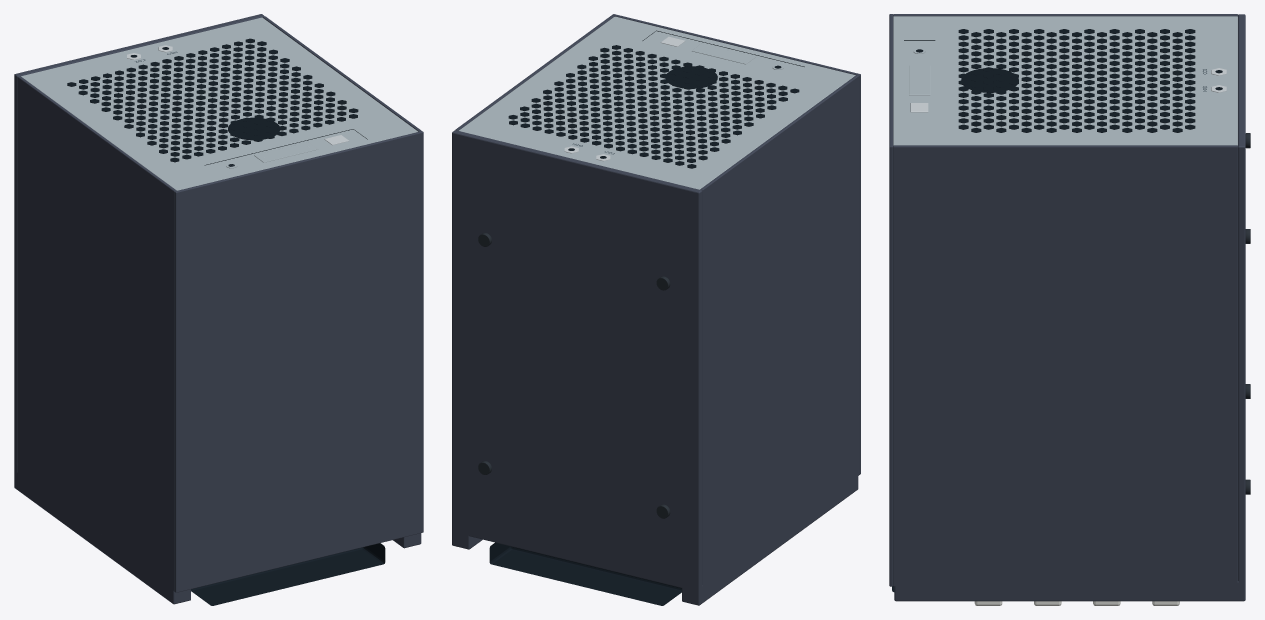
File: Inheco SCILA.glb
3 views of the same model, side by side, from view 1: azimuth 30°, elevation 25°; view 2: azimuth 150°, elevation 25°; view 3: azimuth 270°, elevation 25° (orthographic). The views are drawn at different scales.
Visible parts, largest first — view 1: Base_pan, Chamber_back, CO2_connector_bore; view 2: Base_pan, Chamber_back, CO2_connector_bore, Drawer_1_seal; view 3: Base_pan, Chamber_back, CO2_connector_bore, Drawer_1_end_cap.
Part boxes in pixels (left/top/right/bottom): Base_pan: left=14, top=14, right=423, bottom=604; Chamber_back: left=21, top=17, right=418, bottom=190; CO2_connector_bore: left=67, top=38, right=385, bottom=605; Base_pan: left=452, top=14, right=860, bottom=605; Chamber_back: left=459, top=16, right=855, bottom=189; CO2_connector_bore: left=489, top=30, right=804, bottom=605; Drawer_1_seal: left=478, top=233, right=670, bottom=518; Base_pan: left=889, top=14, right=1245, bottom=601; Chamber_back: left=893, top=16, right=1237, bottom=145; CO2_connector_bore: left=892, top=29, right=1222, bottom=591; Drawer_1_end_cap: left=974, top=601, right=1179, bottom=605.
Bounding box in the file's own units: 0.25 × 0.41 × 0.287.
